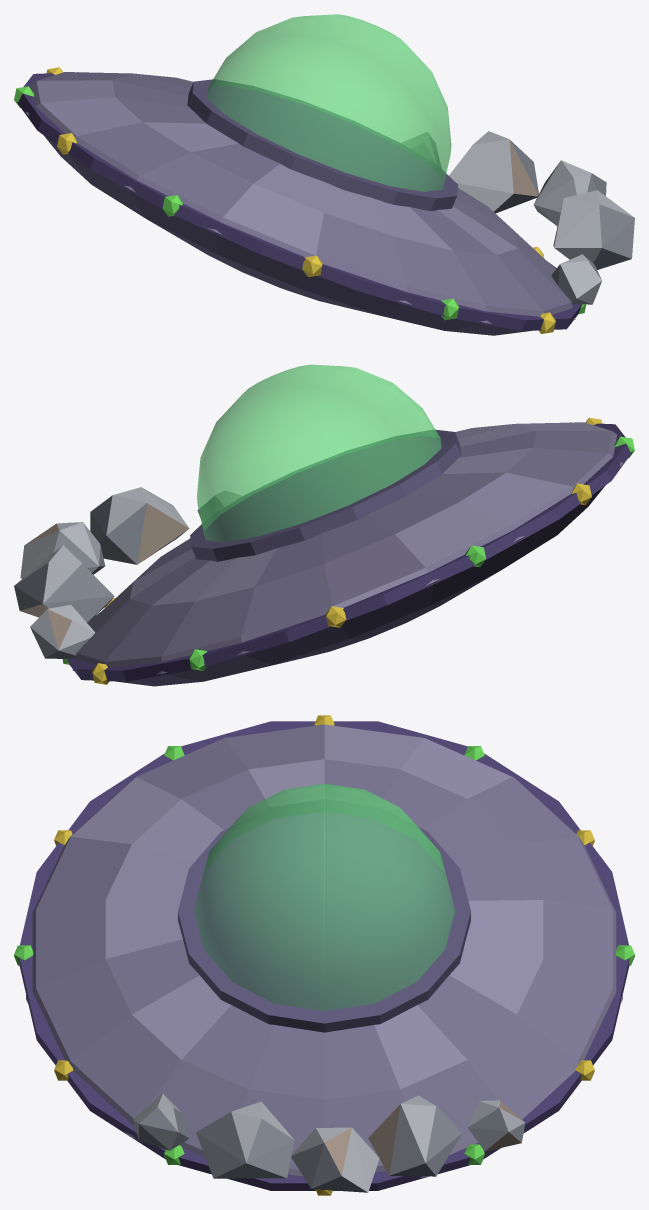
File: ufo.glb
3 renders of one model, top to bottom at view 1: azimuth 30°, elevation 25°; view 2: azimuth 150°, elevation 25°; view 3: azimuth 270°, elevation 25°, orthographic.
Visible parts, largest first — view 1: Body, Lights_glow; view 2: Body, Lights_glow; view 3: Body, Lights_glow.
Part boxes in pixels (x1=…): Body: x1=17, y1=14, x2=634, y2=335; Lights_glow: x1=14, y1=67, x2=586, y2=333; Body: x1=14, y1=364, x2=631, y2=686; Lights_glow: x1=62, y1=417, x2=634, y2=684; Body: x1=19, y1=721, x2=629, y2=1192; Lights_glow: x1=14, y1=715, x2=634, y2=1195.
Bounding box in the file's own units: 6.45 × 3.24 × 6.14.
